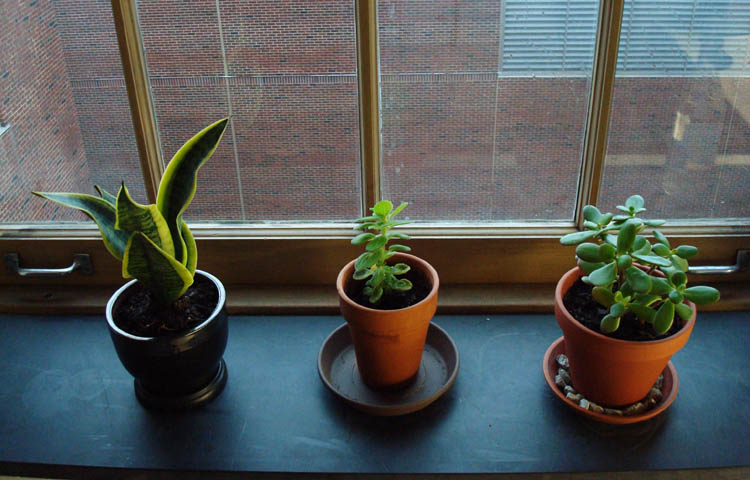potted plant: (77, 180, 254, 418), (546, 196, 702, 430), (314, 200, 477, 415)
